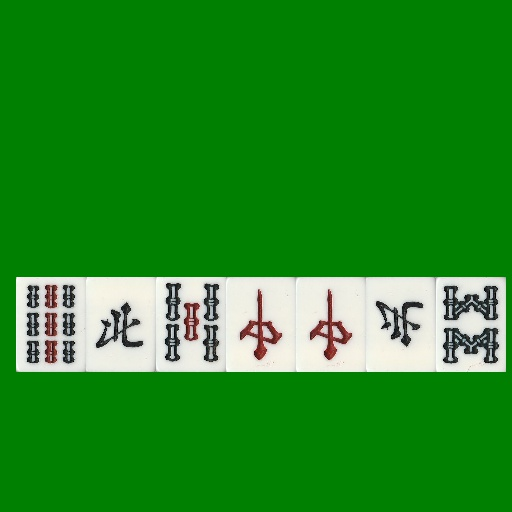5s: (156, 277, 226, 372)
8s: (436, 277, 506, 372)
9s: (16, 277, 86, 372)
north: (86, 277, 156, 372), (366, 277, 436, 372)
tyun: (226, 277, 296, 372), (296, 277, 366, 372)
